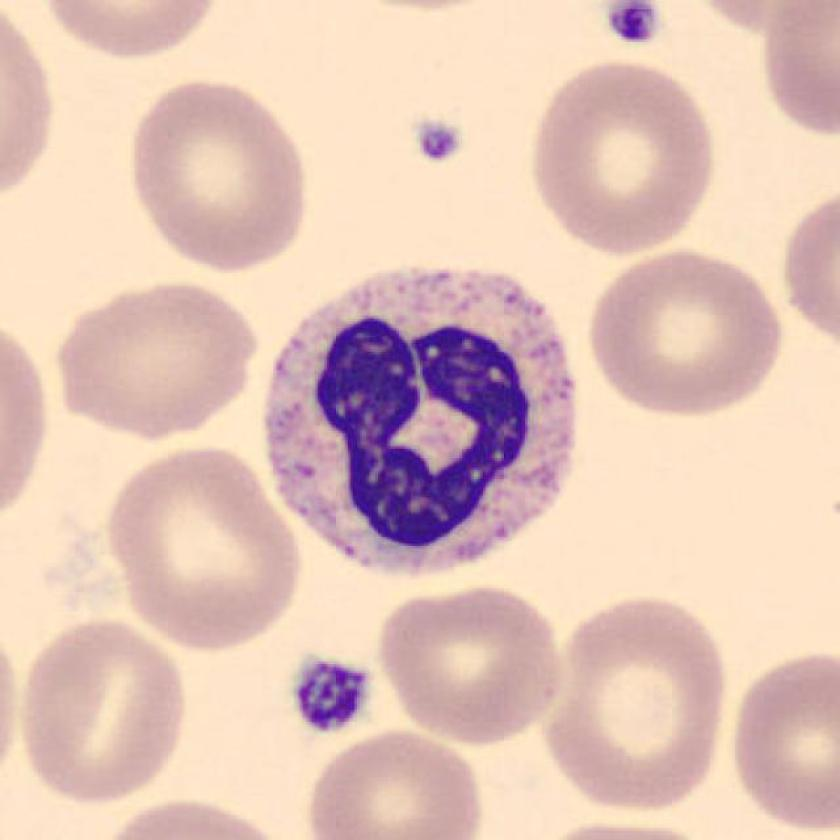neutrophil: (266, 270, 577, 573)
